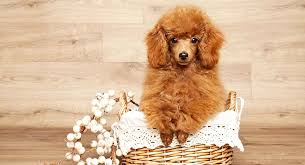Poodle: (116, 5, 265, 150)
